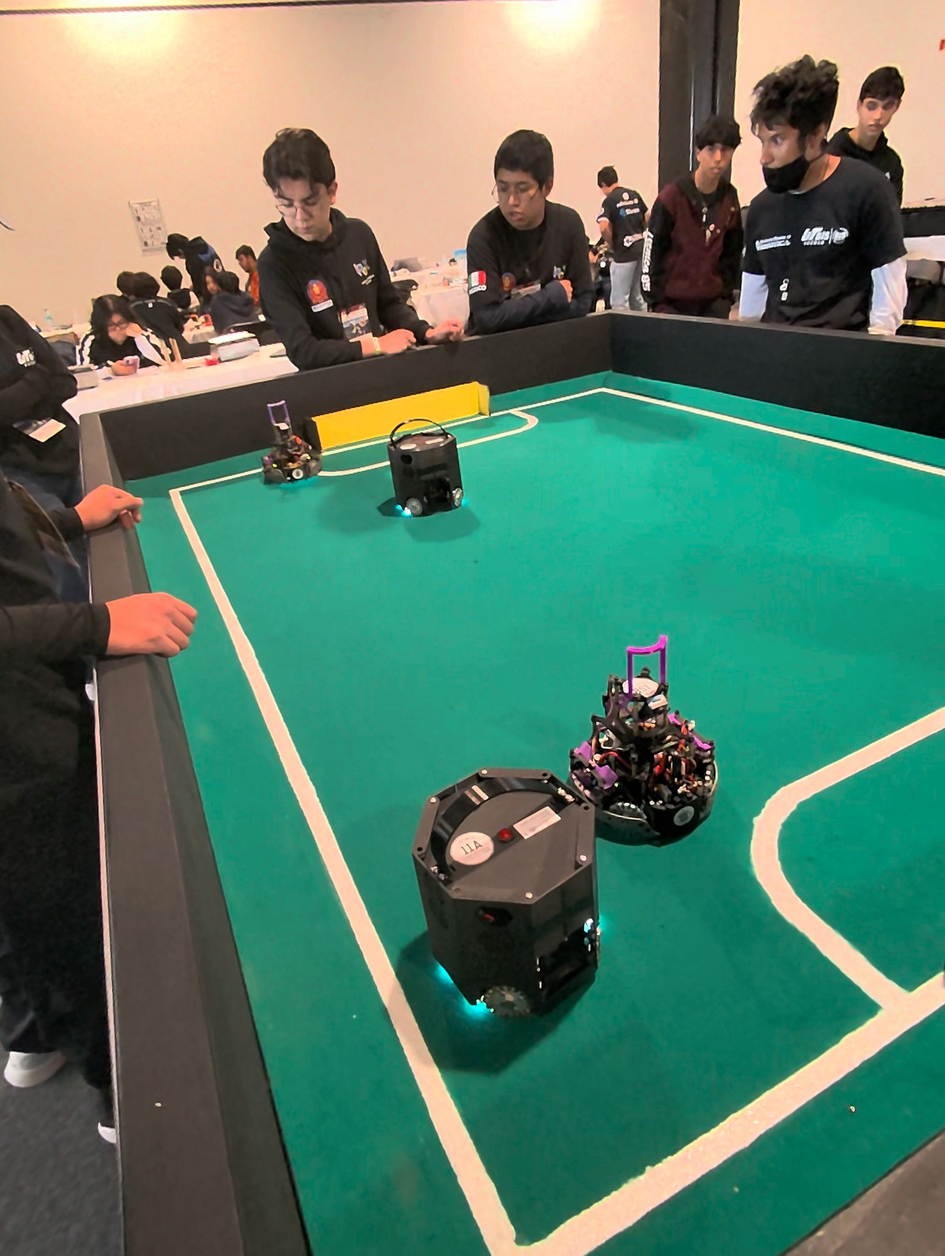Robot: (422, 776, 604, 1020), (569, 660, 717, 854), (381, 399, 472, 543), (259, 399, 319, 496)
